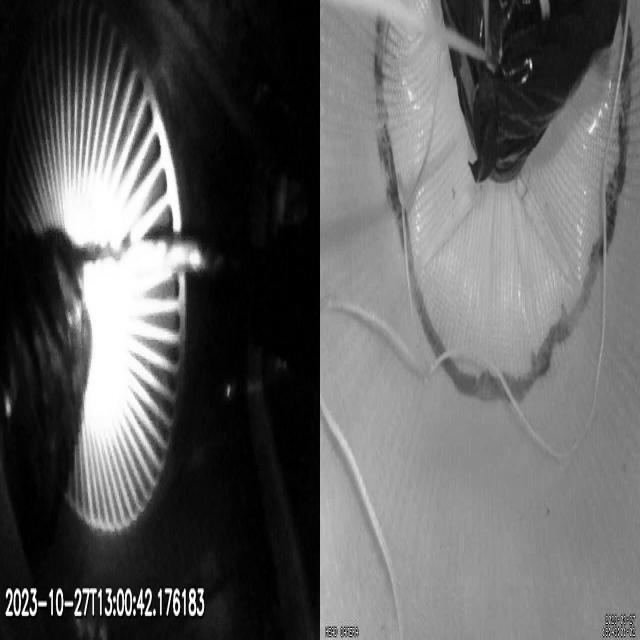red-circle: (373, 13, 636, 404)
